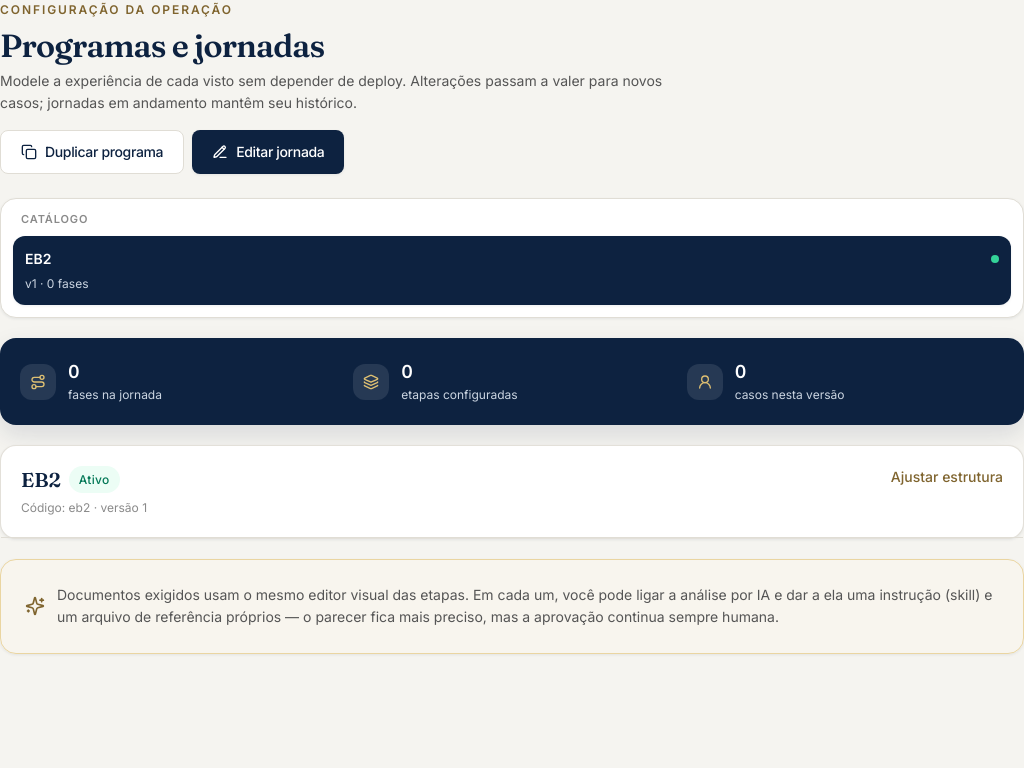
it: orienta duplicar versão já usada por casos
The image size is (1024, 768).
Click the button "Editar jornada".
click(268, 152)  # box left=192, top=130, right=344, bottom=174
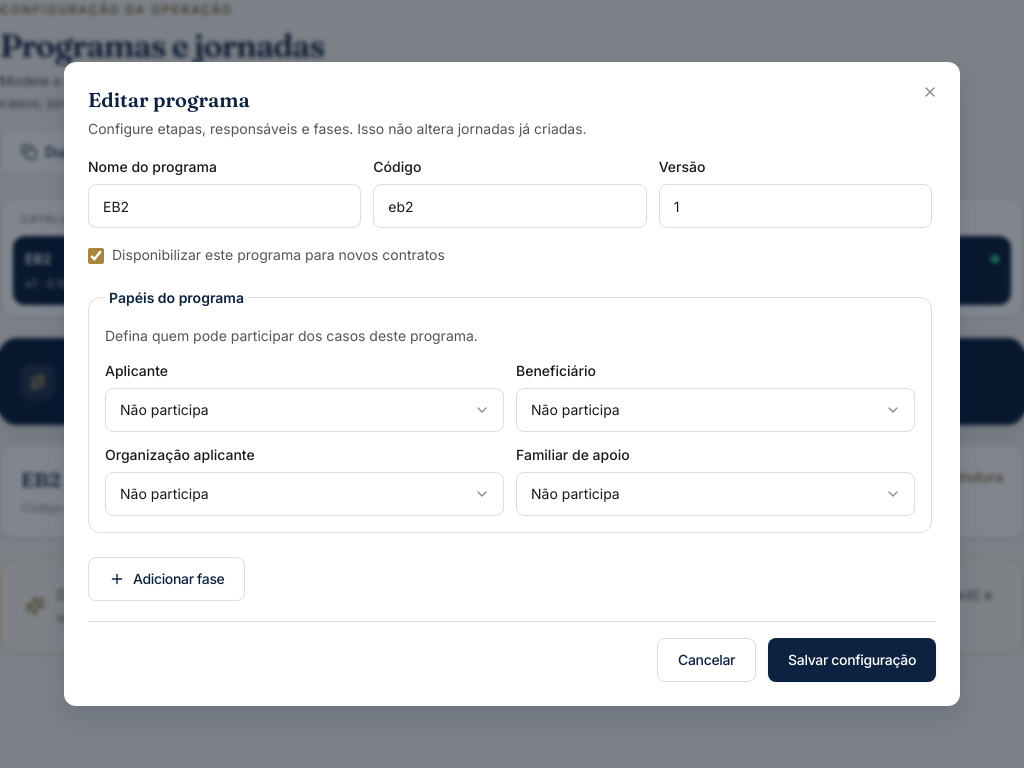
Click the button "Salvar configuração".
click(852, 660)  # box left=768, top=638, right=936, bottom=682
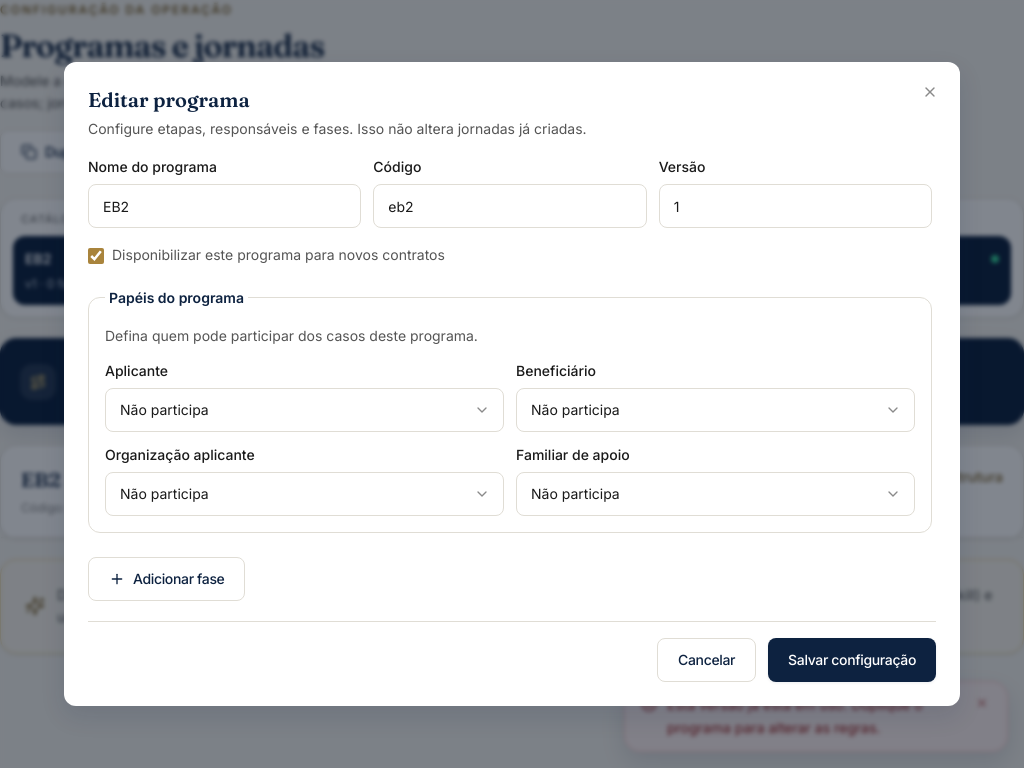
Expected: the text "Duplique o programa" is shown, left=667, top=696, right=922, bottom=736
